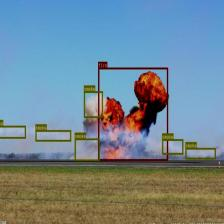fire: (98, 68, 168, 160)
smoke: (74, 138, 100, 161), (84, 91, 103, 118), (35, 130, 71, 141), (185, 148, 216, 159), (162, 139, 183, 154), (0, 126, 26, 138)
